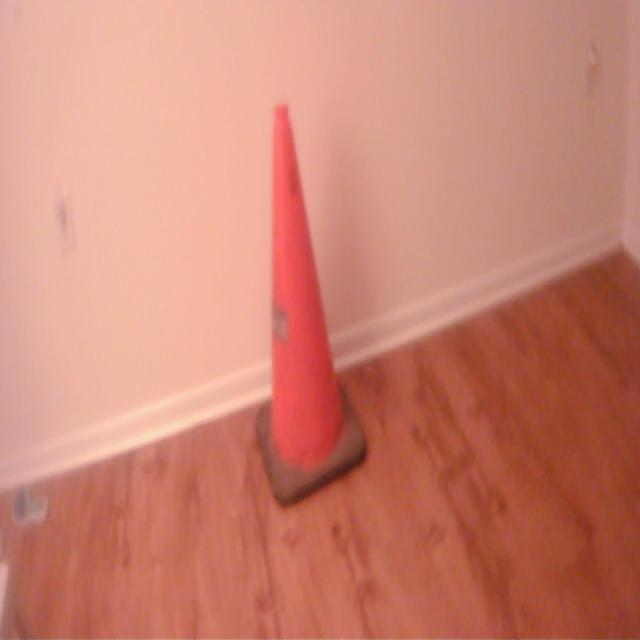traffic cone: (253, 97, 372, 515)
